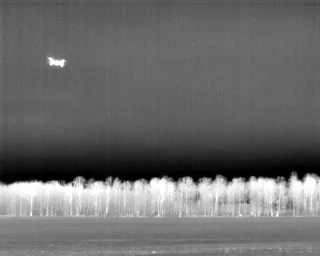DRONE: (43, 52, 70, 72)
